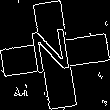N_S: (31, 27, 79, 83)
